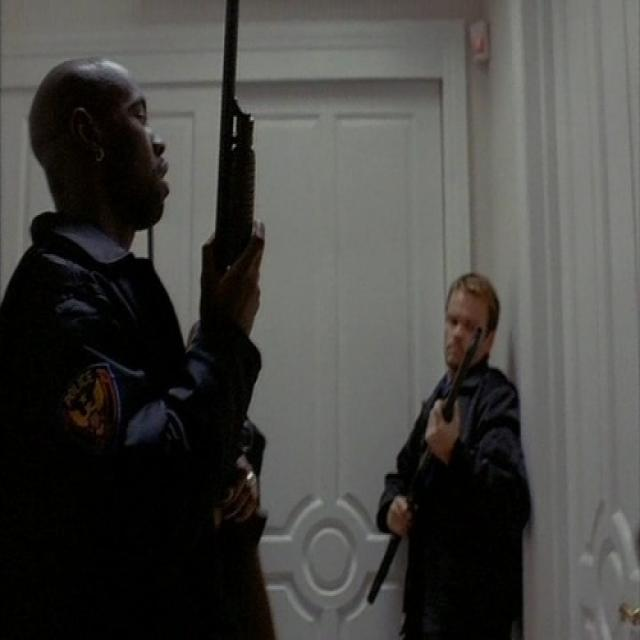rifle: (362, 323, 488, 617), (207, 1, 261, 455)
